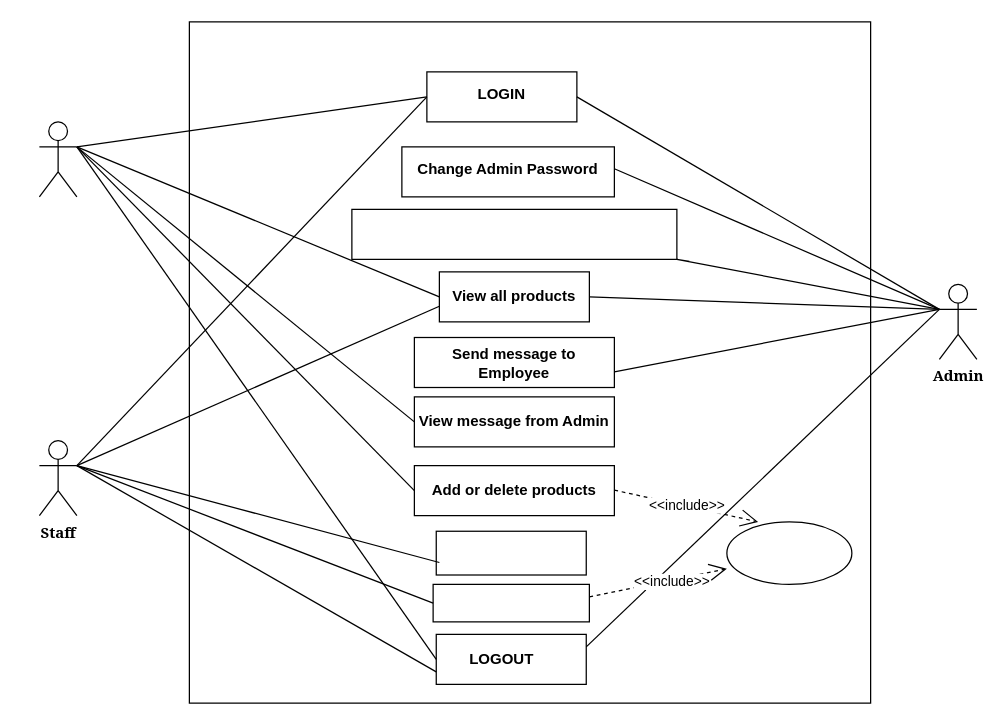
This 1005x725 diagram has some shape labels left out. Each missing label, with the centre of its shape:
Add to cart: the point at 510,552
Change Staff and Employee details: the point at 514,233
Edit Products: the point at 789,552
Employee: the point at 57,159
Generate receipt: the point at 510,602
